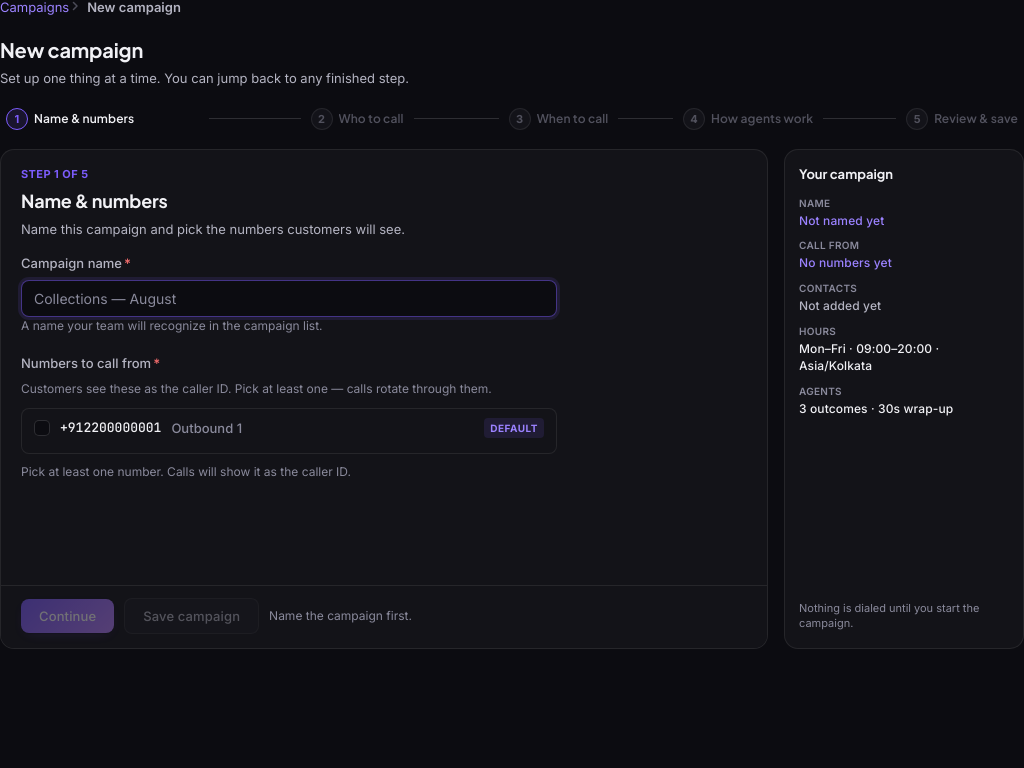
the guided setup path › keeps typed values when jumping back from a later step
The width and height of the screenshot is (1024, 768).
Step 1. Type "August collections" into the field labelled "Campaign name*" → (289, 298), box left=21, top=280, right=557, bottom=317
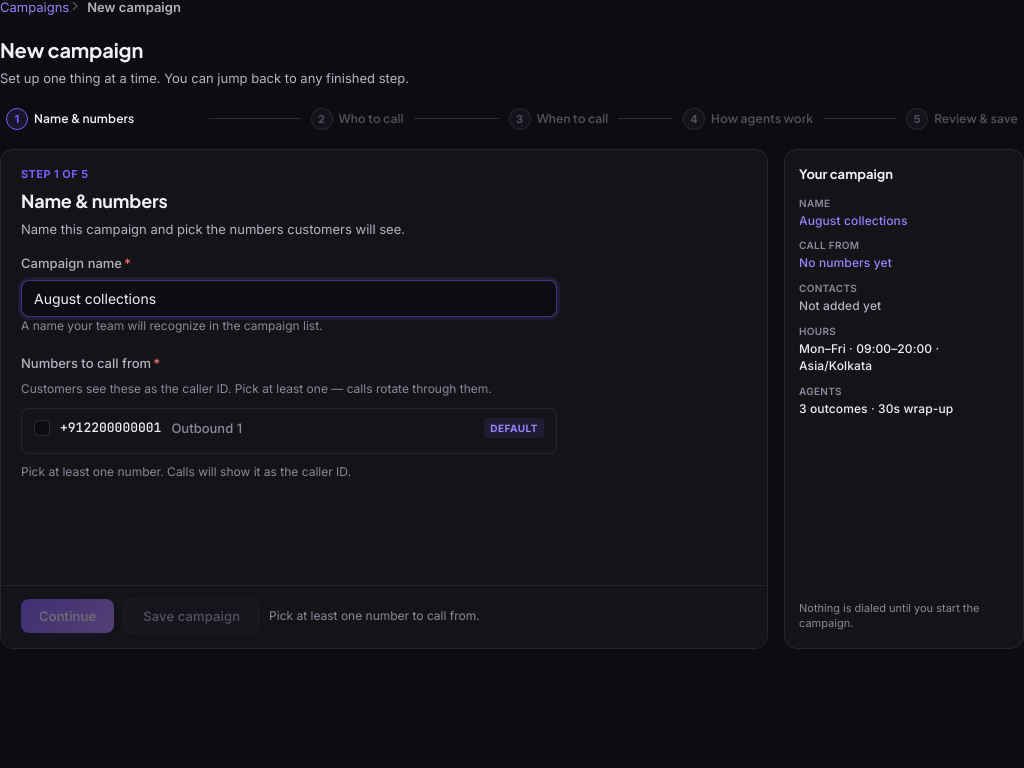
Step 2. Click the checkbox labelled "+912200000001 Outbound 1 Default" → (42, 428), box left=34, top=420, right=50, bottom=436
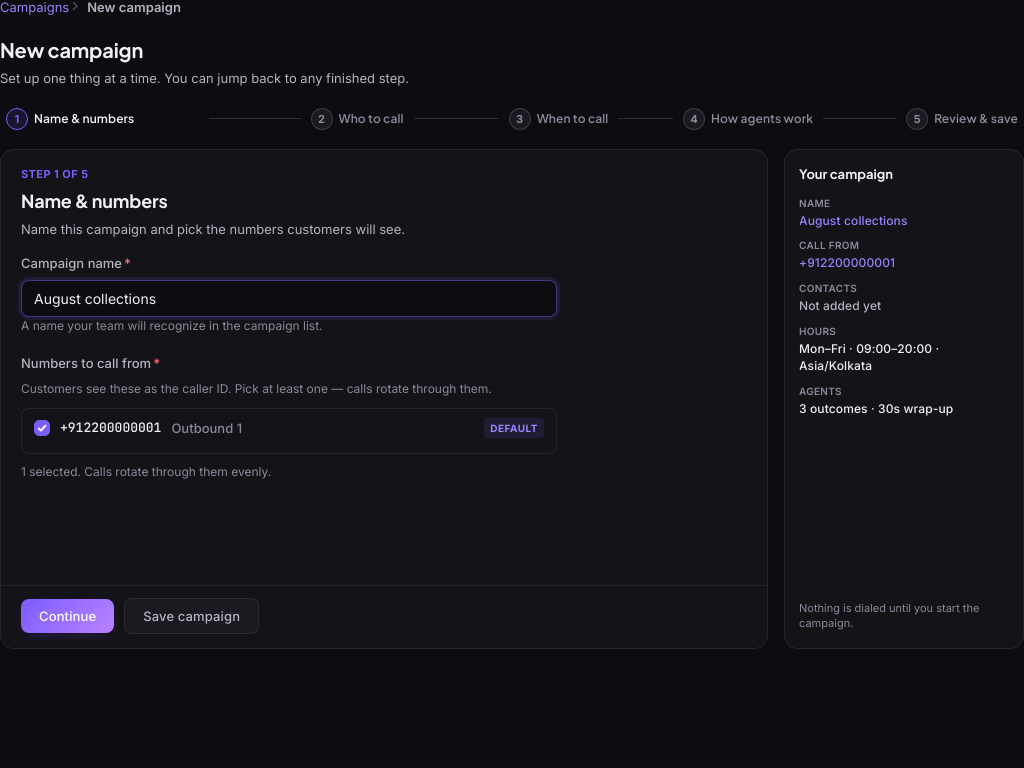
Step 3. Click the button "4 How agents work" → (748, 119), box left=677, top=103, right=819, bottom=135
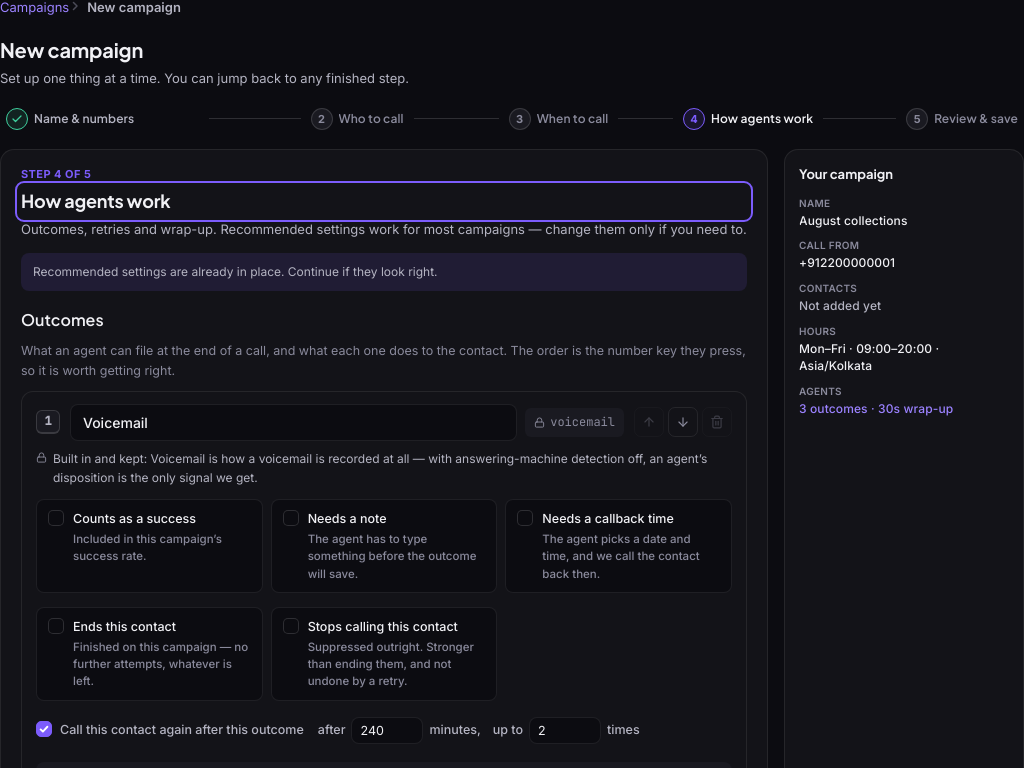
Step 4. Click the button "Name & numbers" → (70, 119), box left=0, top=103, right=140, bottom=135
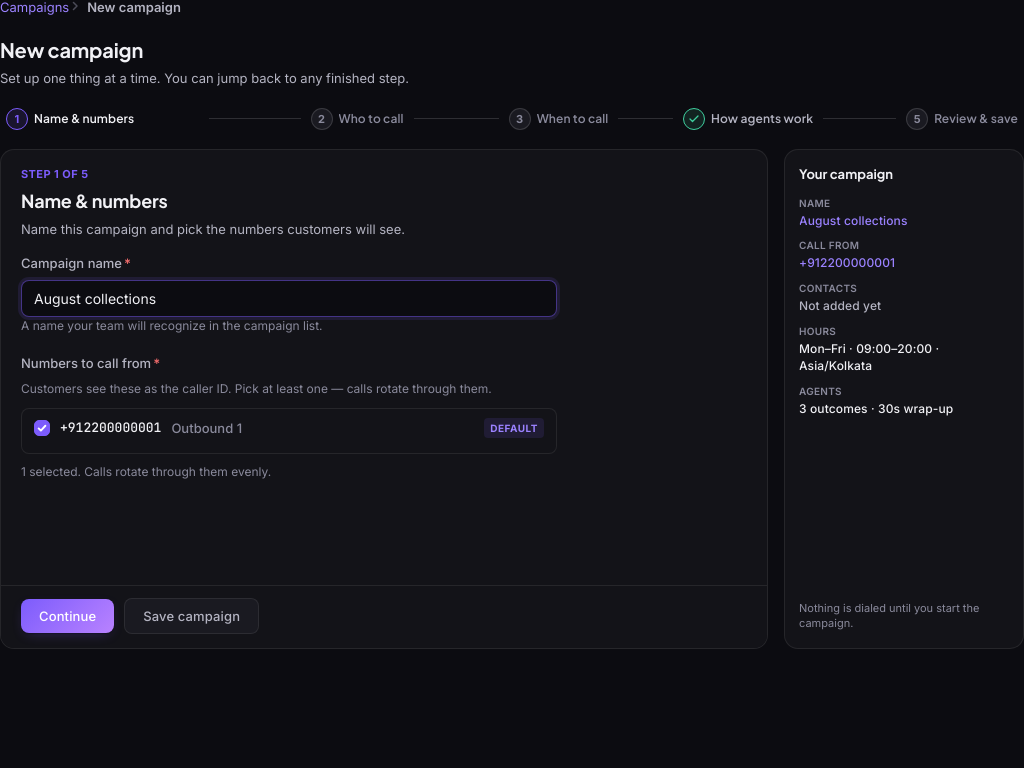
Expected: the field labelled "Campaign name*" holds "August collections", left=21, top=280, right=557, bottom=317
